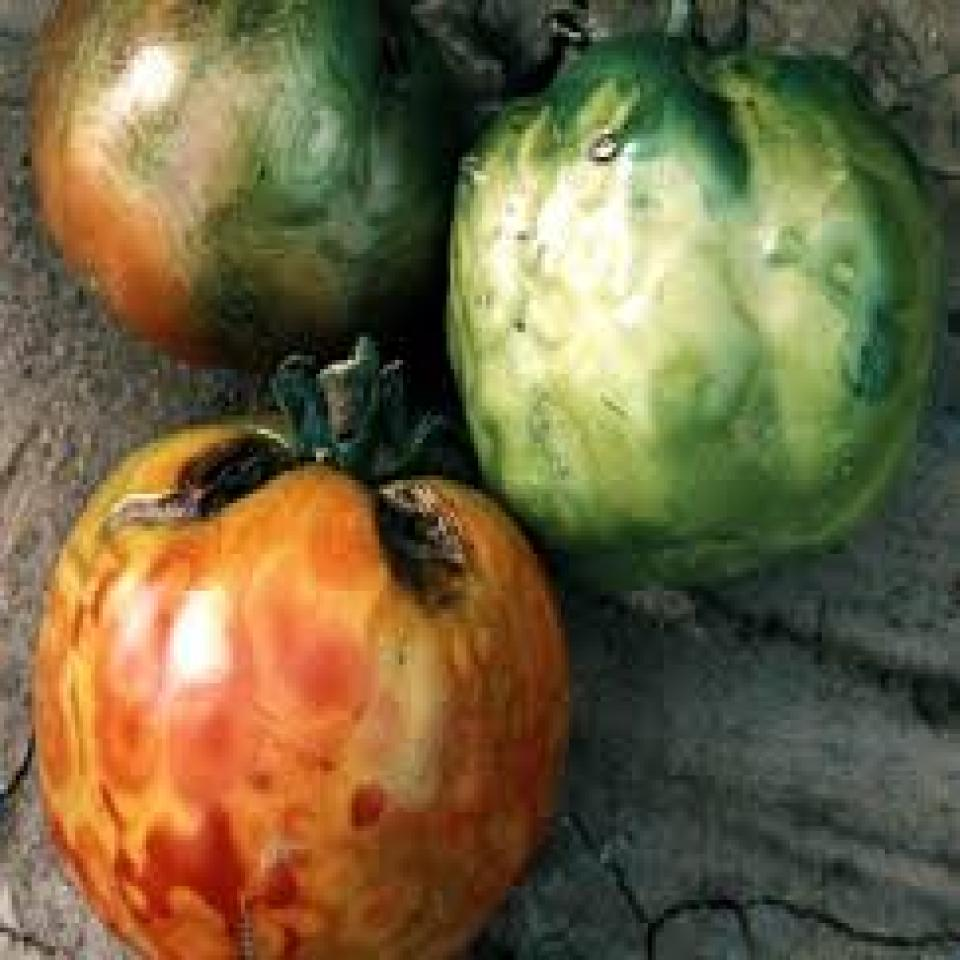Spotted wilt Virus: (31, 416, 571, 960), (447, 22, 946, 583), (28, 0, 460, 361)
